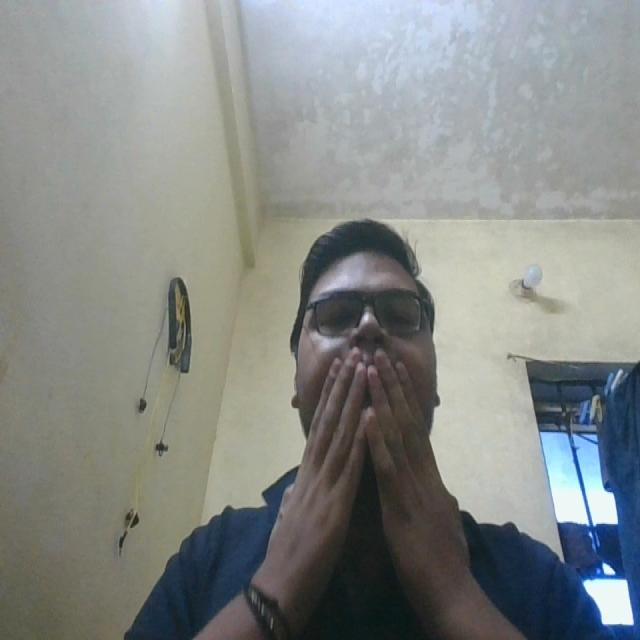Thanks: (270, 330, 453, 585)
